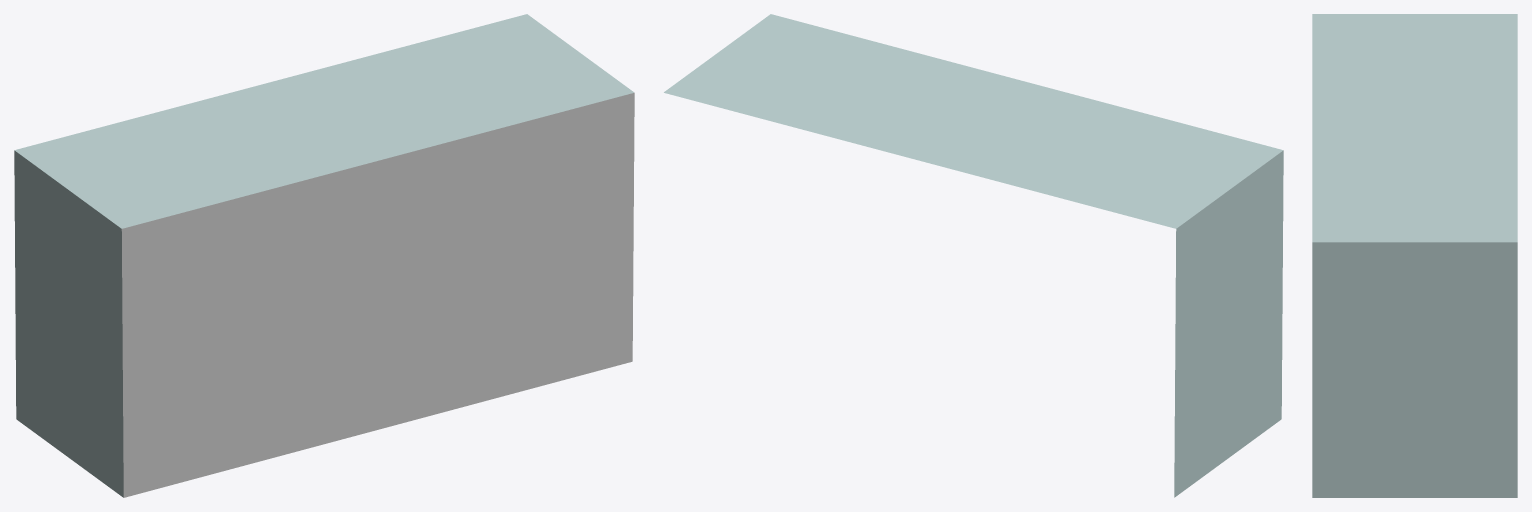
3 renders of one model, left to right at view 1: azimuth 30°, elevation 25°; view 2: azimuth 150°, elevation 25°; view 3: azimuth 270°, elevation 25°, orthographic. The views are drawn at different scales.
Parts seen in each view (by area): view 1: 0_3_2_1_2_2_3_3_1; view 2: 0_3_2_1_2_2_3_3_1; view 3: 0_3_2_1_2_2_3_3_1.
Part boxes in pixels (left/top/right/bottom): 0_3_2_1_2_2_3_3_1: left=14, top=14, right=634, bottom=497; 0_3_2_1_2_2_3_3_1: left=664, top=14, right=1283, bottom=497; 0_3_2_1_2_2_3_3_1: left=1312, top=14, right=1517, bottom=497.
Size of the model in its own units: 8.26 by 4.32 by 3.
